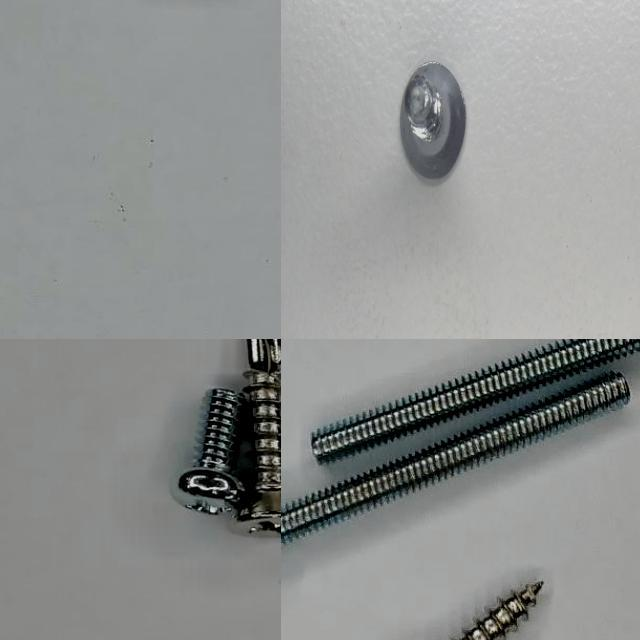Screw: (281, 372, 629, 541), (310, 339, 640, 461), (172, 387, 247, 517), (237, 339, 281, 535), (400, 61, 464, 175), (458, 582, 542, 640)
